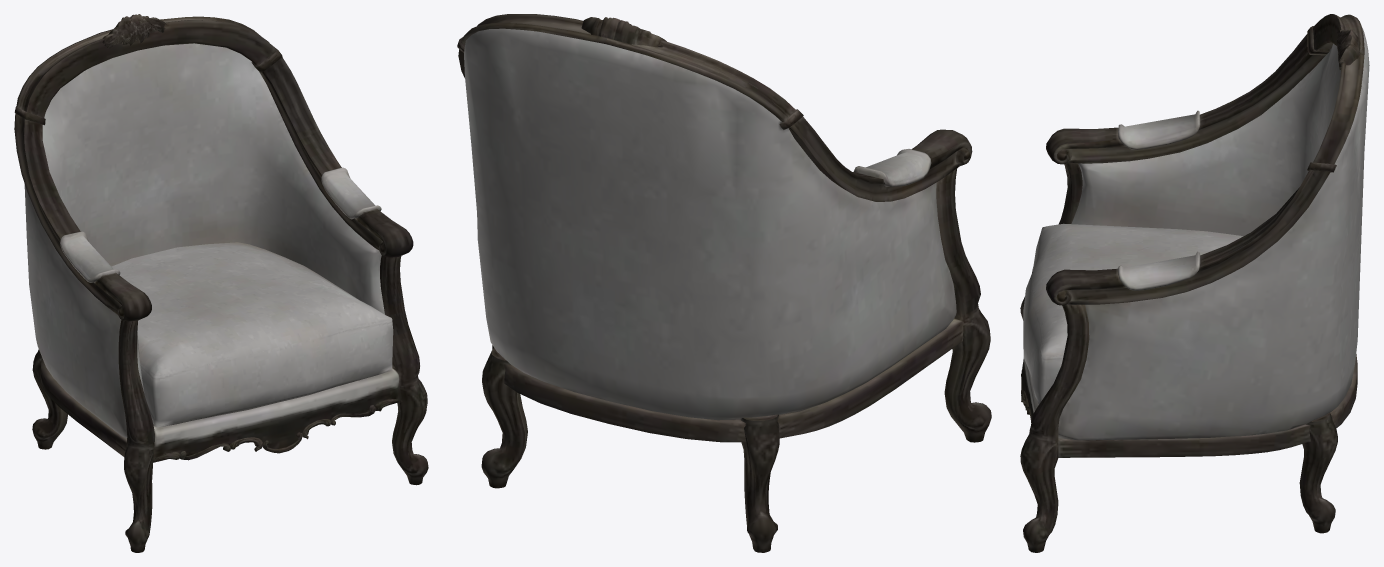
File: ArmChair_01.glb
3 views of the same model, side by side, from view 1: azimuth 30°, elevation 25°; view 2: azimuth 150°, elevation 25°; view 3: azimuth 270°, elevation 25° (orthographic). The views are drawn at different scales.
Visible parts, largest first — view 1: ArmChair_01; view 2: ArmChair_01; view 3: ArmChair_01.
Boxes of the visible parts, x1,y1,x2,y2 form: ArmChair_01: (14,14,428,552); ArmChair_01: (457,14,991,552); ArmChair_01: (1020,14,1369,552).
Bounding box in the file's own units: 0.8484 × 1.06 × 0.7658.
1 material, 1 textured.
